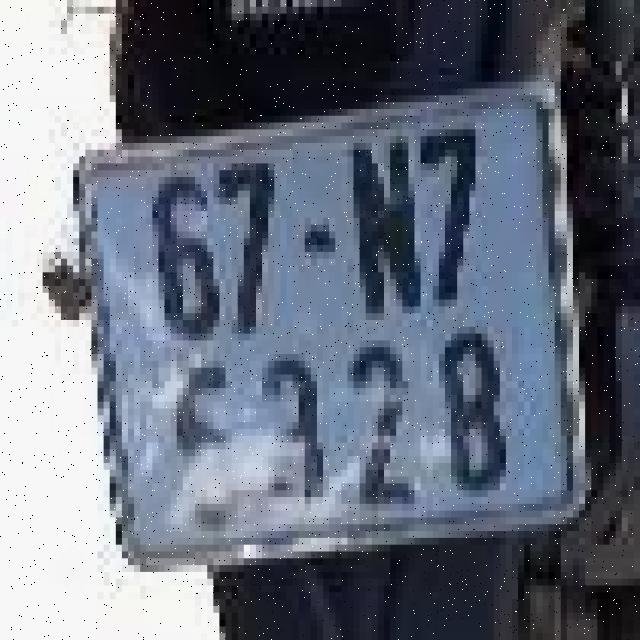2: (329, 334, 421, 511)
3: (259, 337, 326, 528)
5: (158, 361, 244, 531)
6: (136, 167, 233, 363)
7: (208, 151, 296, 343), (411, 114, 491, 319)
8: (439, 320, 512, 504)
N: (338, 123, 433, 329)
